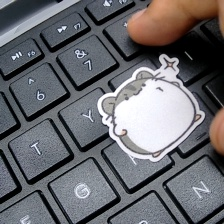mouse: (95, 50, 206, 165)
